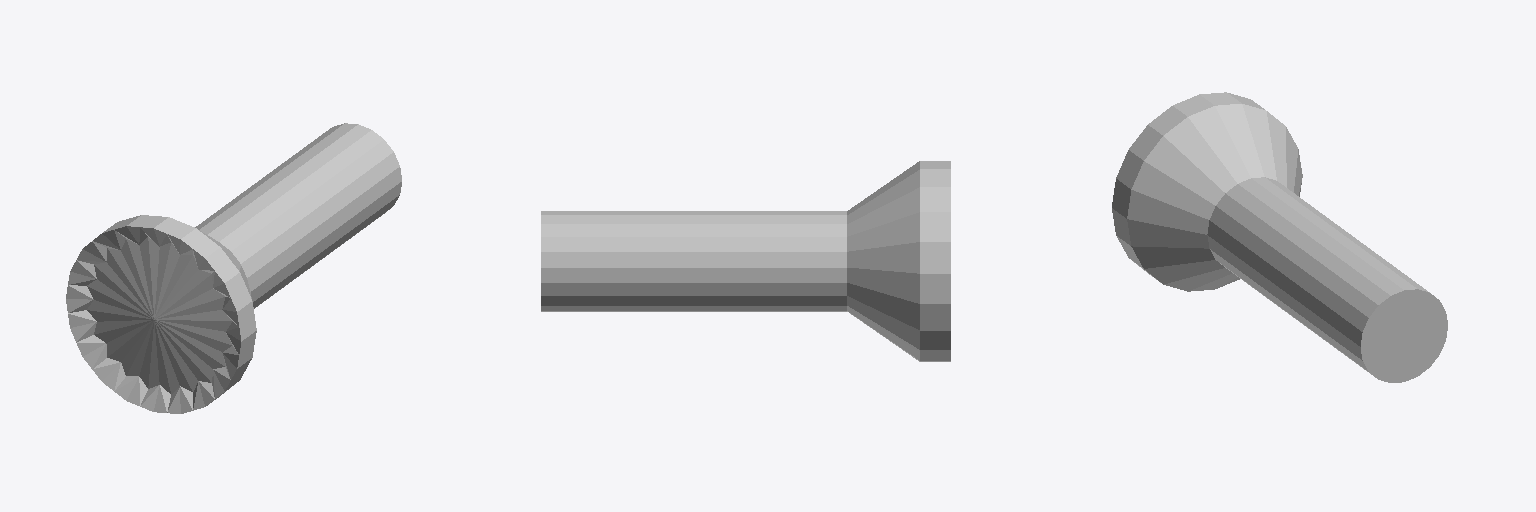
Rendered from Props_Flashlight_Geo.obj.
3 renders of one model, left to right at view 1: azimuth 30°, elevation 25°; view 2: azimuth 150°, elevation 25°; view 3: azimuth 270°, elevation 25°, orthographic.
Visible parts, largest first — view 1: PropZoo:pCylinder13; view 2: PropZoo:pCylinder13; view 3: PropZoo:pCylinder13.
Boxes of the visible parts, <box> form: PropZoo:pCylinder13: <box>66,123,401,413</box>; PropZoo:pCylinder13: <box>541,161,950,361</box>; PropZoo:pCylinder13: <box>1112,92,1447,382</box>.
Size of the model in its own units: 0.3318 by 0.1562 by 0.2592.